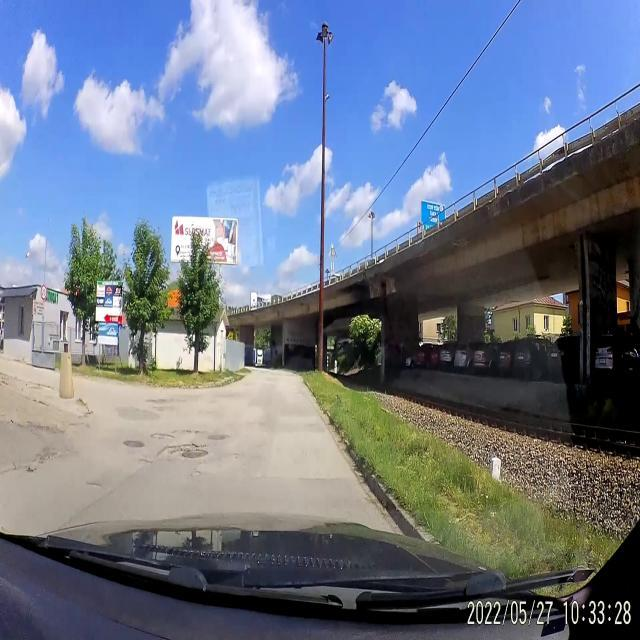Manhole: (179, 447, 208, 464), (122, 437, 146, 452), (207, 430, 230, 443)
Pothole: (76, 396, 96, 420), (162, 440, 196, 452), (152, 429, 176, 442), (136, 454, 156, 467), (85, 478, 102, 490), (143, 396, 168, 404), (182, 427, 202, 435), (189, 468, 204, 478), (232, 450, 242, 463)
